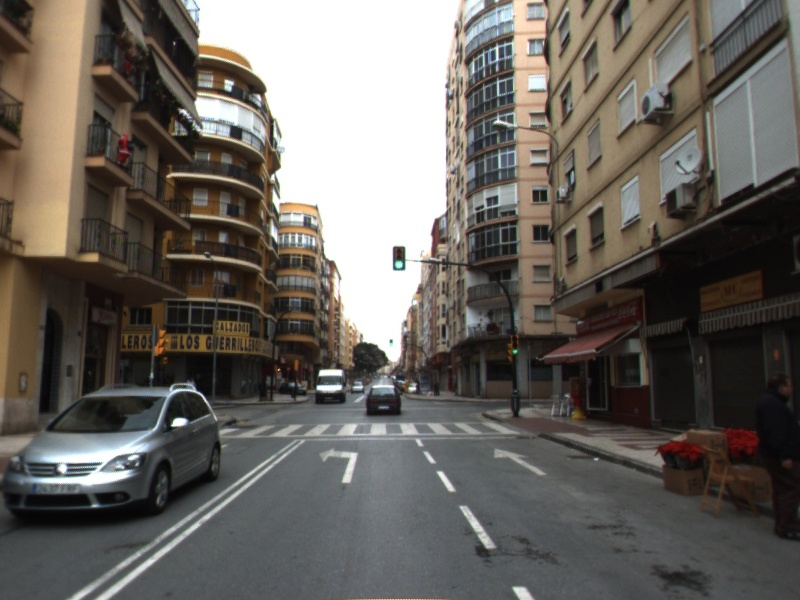LEFT: (317, 446, 360, 485)
STRAIGHT: (492, 446, 549, 477)
